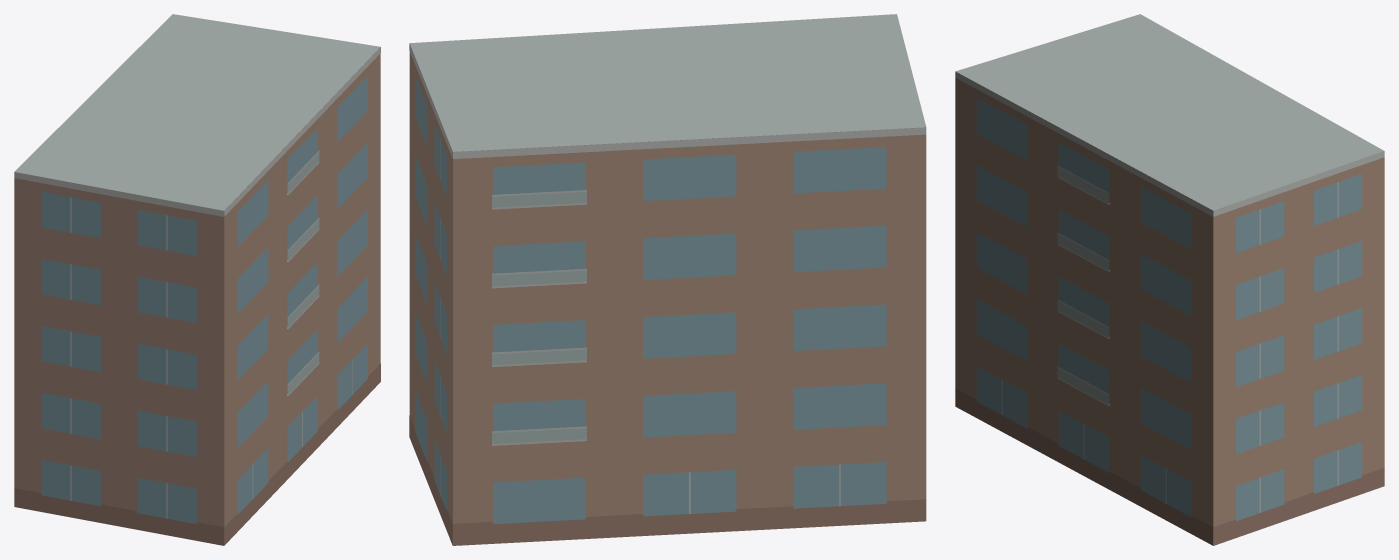
File: survey-upis-32724214.glb
The picture shows the model from 3 angles, left to right: view 1: azimuth 30°, elevation 25°; view 2: azimuth 150°, elevation 25°; view 3: azimuth 270°, elevation 25°; orthographic projection. The views are drawn at different scales.
Parts seen in each view (by area): view 1: survey-upis-32724214.tmp; view 2: survey-upis-32724214.tmp; view 3: survey-upis-32724214.tmp.
Boxes of the visible parts, x1,y1,x2,y2 form: survey-upis-32724214.tmp: [14, 14, 380, 545]; survey-upis-32724214.tmp: [409, 14, 926, 545]; survey-upis-32724214.tmp: [955, 14, 1384, 545].
Size of the model in its own units: 16.75 by 13.3 by 15.45.
